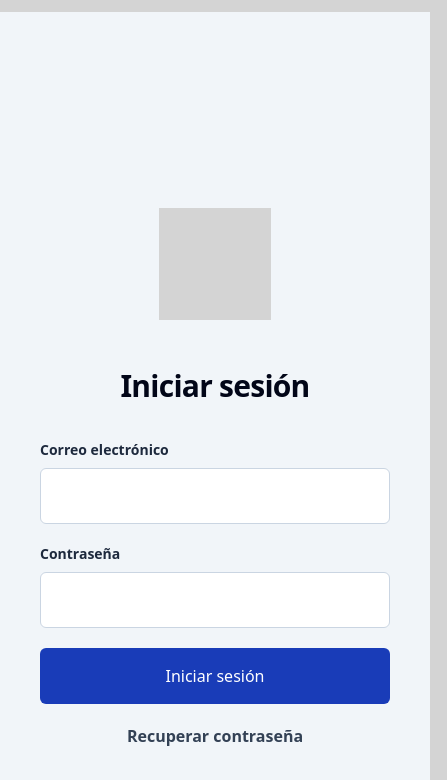
it: cubre las rutas de login y recuperar password desde la navegacion real
Check: the button "Iniciar sesión" is shown, box [40,648,390,704]
Step 1. Click the link "Recuperar contraseña" → (215, 736), box [127,725,303,747]
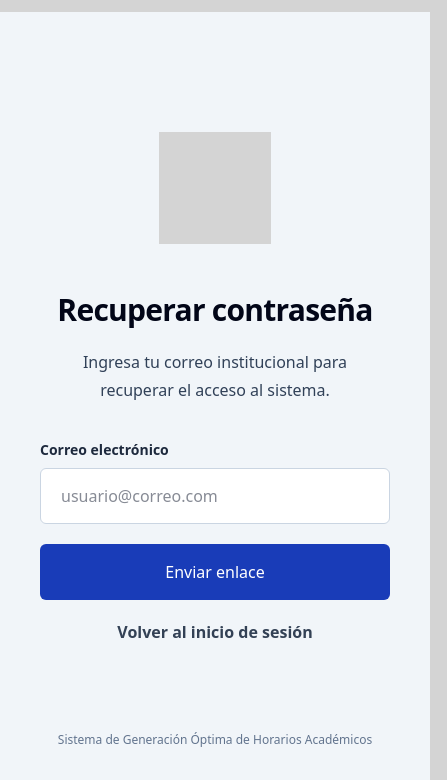
Check: the button "Enviar enlace" is shown, box [40,544,390,600]
Check: the link "Volver al inicio de sesión" is shown, box [117,621,313,643]
